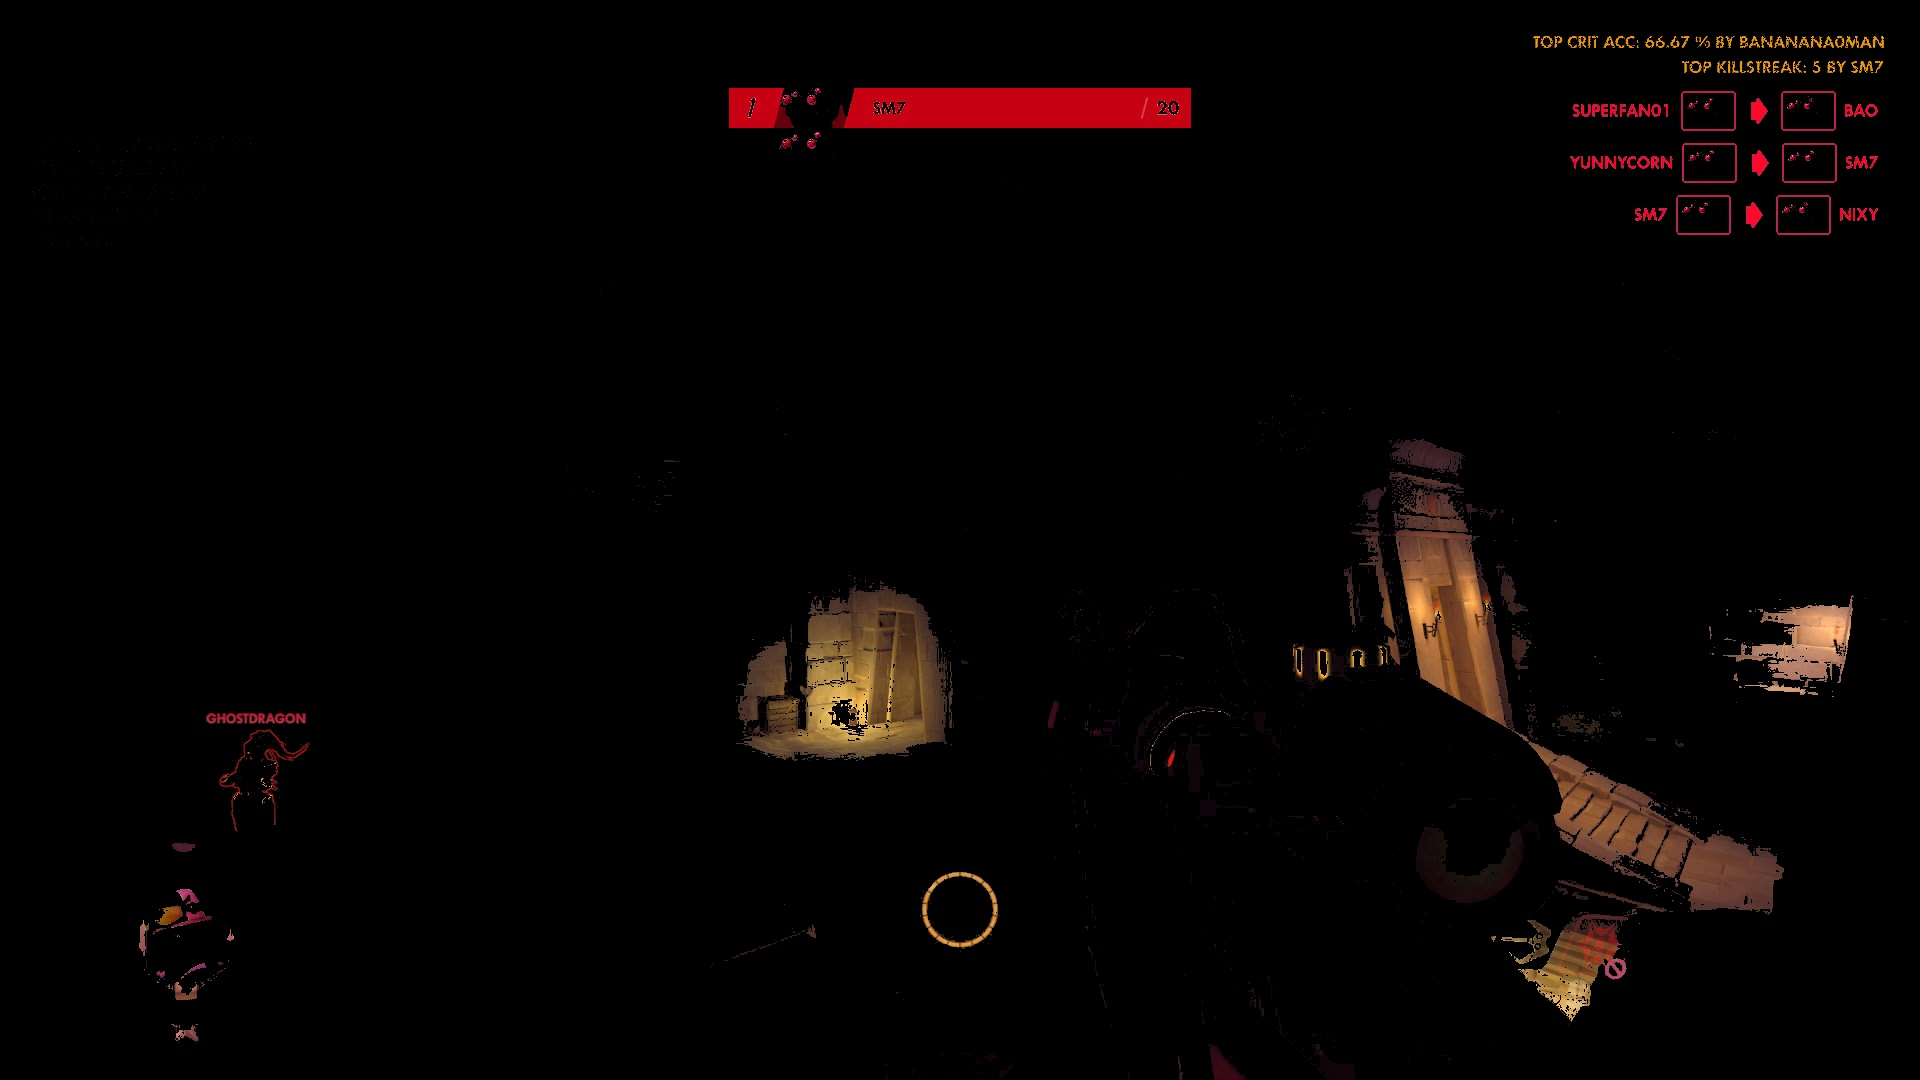widowmaker: (219, 728, 285, 832)
